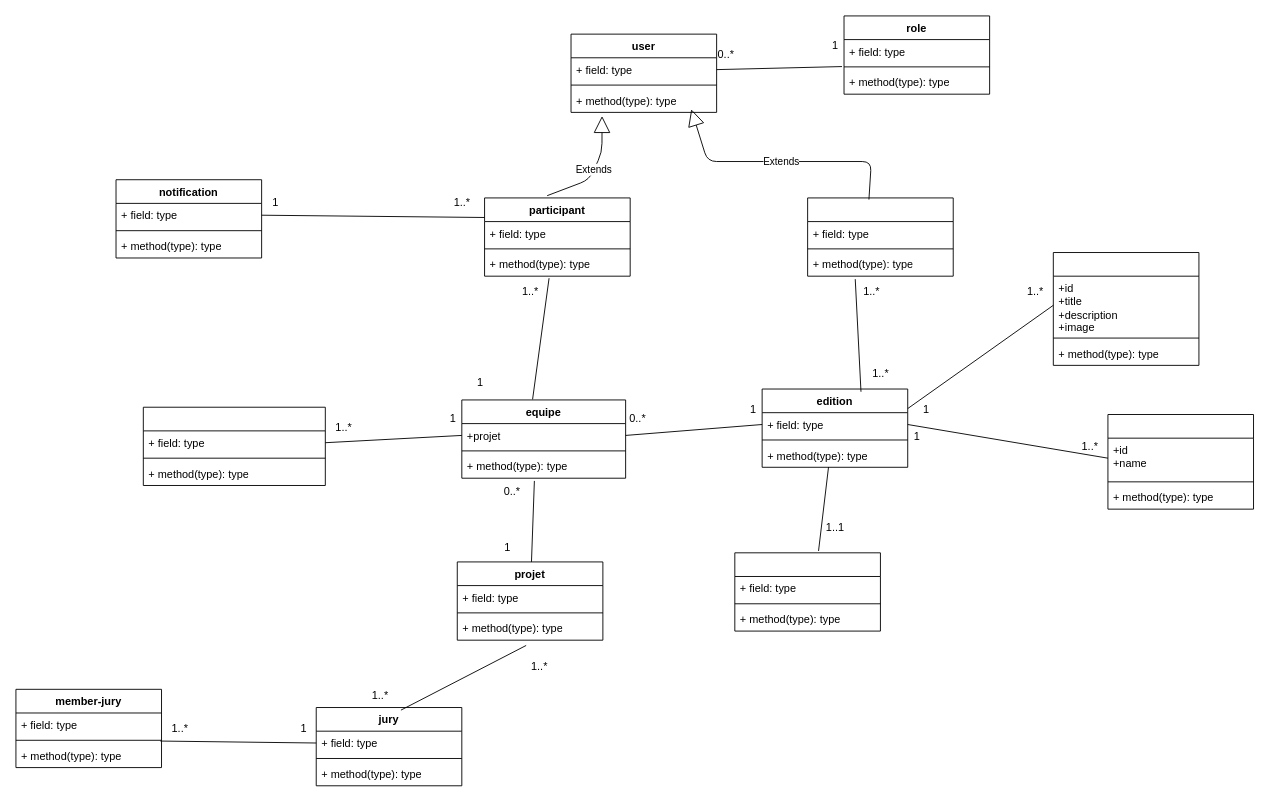
Some shapes in this 1269 by 804 pixel diagram are drawn without their labels. Here are the shapes that lost their labels. From the top down, the box of each, then its label:
(807, 197, 953, 276): organisateur
(1052, 252, 1199, 365): theme
(142, 406, 325, 485): message
(1107, 414, 1254, 509): regle
(734, 552, 880, 631): statistics
